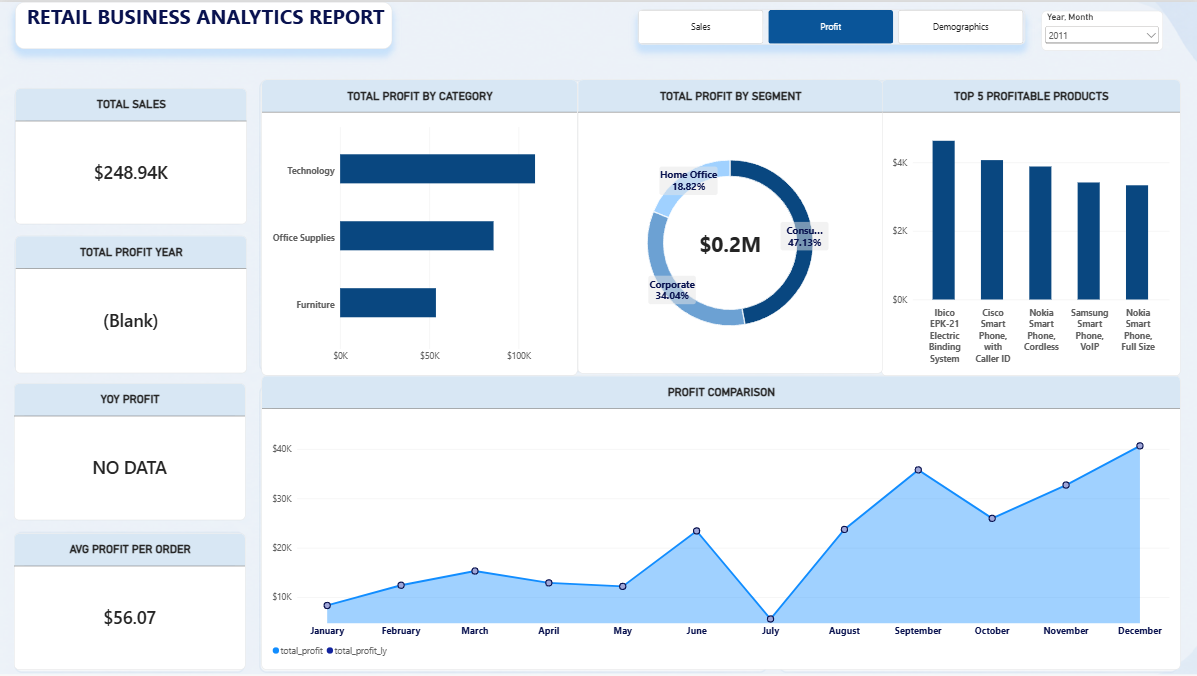

Layout of this report page (visuals, bound fields, positions):
{"tool":"powerbi","page":{"name":"Profit","canvas":[1920,1080],"ordinal":1},"visuals":[{"type":"card","title":"TOTAL SALES","fields":{"Values":["calculated_table.total_profit"]},"box":[26.7,137.8,370,217.8],"z":0},{"type":"card","title":"TOTAL PROFIT YEAR","fields":{"Values":["calculated_table.total_profit_ly"]},"box":[26.7,374.4,370,220],"z":1000},{"type":"card","title":"YOY PROFIT","fields":{"Values":["calculated_table.yoy_profit"]},"box":[24.5,610,370,219.1],"z":2000},{"type":"card","title":"AVG PROFIT PER ORDER","fields":{"Values":["calculated_table.avg_profit_per_order"]},"box":[24,850,370,218],"z":3000},{"type":"clusteredBarChart","title":"TOTAL PROFIT BY CATEGORY","fields":{"Category":["product_table.Category"],"Y":["calculated_table.total_profit"]},"box":[420,123.3,505.6,473.3],"z":4000},{"type":"clusteredColumnChart","title":"TOP 5 PROFITABLE PRODUCTS","fields":{"Category":["product_table.Product Name"],"Y":["calculated_table.total_profit"]},"box":[1412,124,478,474],"z":5000},{"type":"donutChart","title":"TOTAL PROFIT BY SEGMENT","fields":{"Category":["customer_table.Segment"],"Y":["calculated_table.total_profit"]},"box":[926,124,488,470],"z":6000},{"type":"lineChart","title":"PROFIT COMPARISON","fields":{"Category":["date-table.Date.Variation.Date Hierarchy.Month"],"Y":["calculated_table.total_profit","calculated_table.total_profit_ly"]},"box":[420,597.5,1470,470],"z":7000},{"type":"pageNavigator","box":[1022,12,620,56],"z":8000},{"type":"slicer","fields":{"Values":["date-table.Date.Variation.Date Hierarchy.Year","date-table.Date.Variation.Date Hierarchy.Month"]},"box":[1668,14,194,64],"z":9000},{"type":"textbox","box":[26.7,0,603.3,75],"z":9001}]}

Visuals, with their boxes in screenshot pixels (x1, y1, x2, y2), scaled from the page's 1920x1080 canvas onto the 1197x676 screenshot:
"TOTAL SALES" card: [x1=17, y1=86, x2=247, y2=223]
"TOTAL PROFIT YEAR" card: [x1=17, y1=234, x2=247, y2=372]
"YOY PROFIT" card: [x1=15, y1=382, x2=246, y2=519]
"AVG PROFIT PER ORDER" card: [x1=15, y1=532, x2=246, y2=668]
"TOTAL PROFIT BY CATEGORY" clusteredBarChart: [x1=262, y1=77, x2=577, y2=373]
"TOP 5 PROFITABLE PRODUCTS" clusteredColumnChart: [x1=880, y1=78, x2=1178, y2=374]
"TOTAL PROFIT BY SEGMENT" donutChart: [x1=577, y1=78, x2=882, y2=372]
"PROFIT COMPARISON" lineChart: [x1=262, y1=374, x2=1178, y2=668]
pageNavigator: [x1=637, y1=8, x2=1024, y2=43]
slicer - date-table.Date.Variation.Date Hierarchy.Year x date-table.Date.Variation.Date Hierarchy.Month: [x1=1040, y1=9, x2=1161, y2=49]
textbox: [x1=17, y1=0, x2=393, y2=47]
